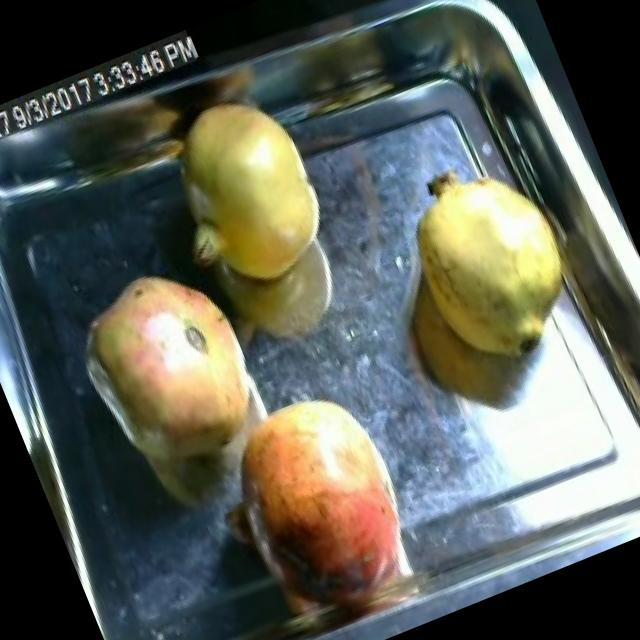fruit: (184, 354, 445, 640), (41, 232, 298, 511), (381, 136, 603, 389), (140, 70, 352, 314)
